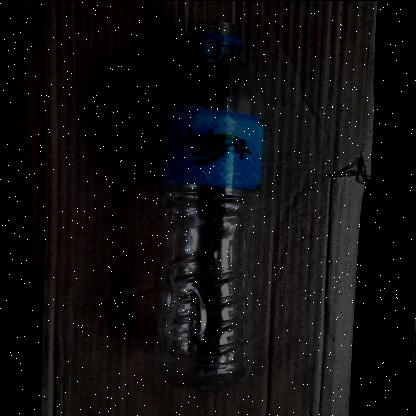Plastic Bottle: (154, 19, 266, 388)
